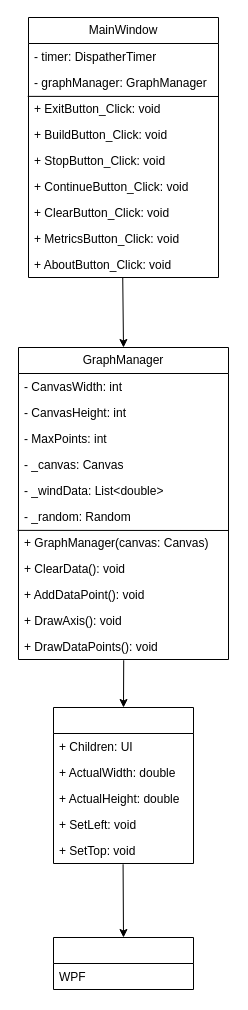
Some shapes in this 248 by 1010 pixel diagram are drawn without their labels. The shapes that lost their labels are listed below. From the top down, each one's box as (x1, y1, x2, y2) in pixels, then its label:
(52, 706, 194, 864): Canvas
(52, 936, 194, 990): UI
